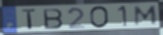1: (117, 5, 128, 28)
2: (67, 7, 88, 29)
B: (42, 8, 64, 30)
M: (134, 5, 158, 27)
O: (89, 5, 110, 29)
T: (21, 8, 38, 32)
